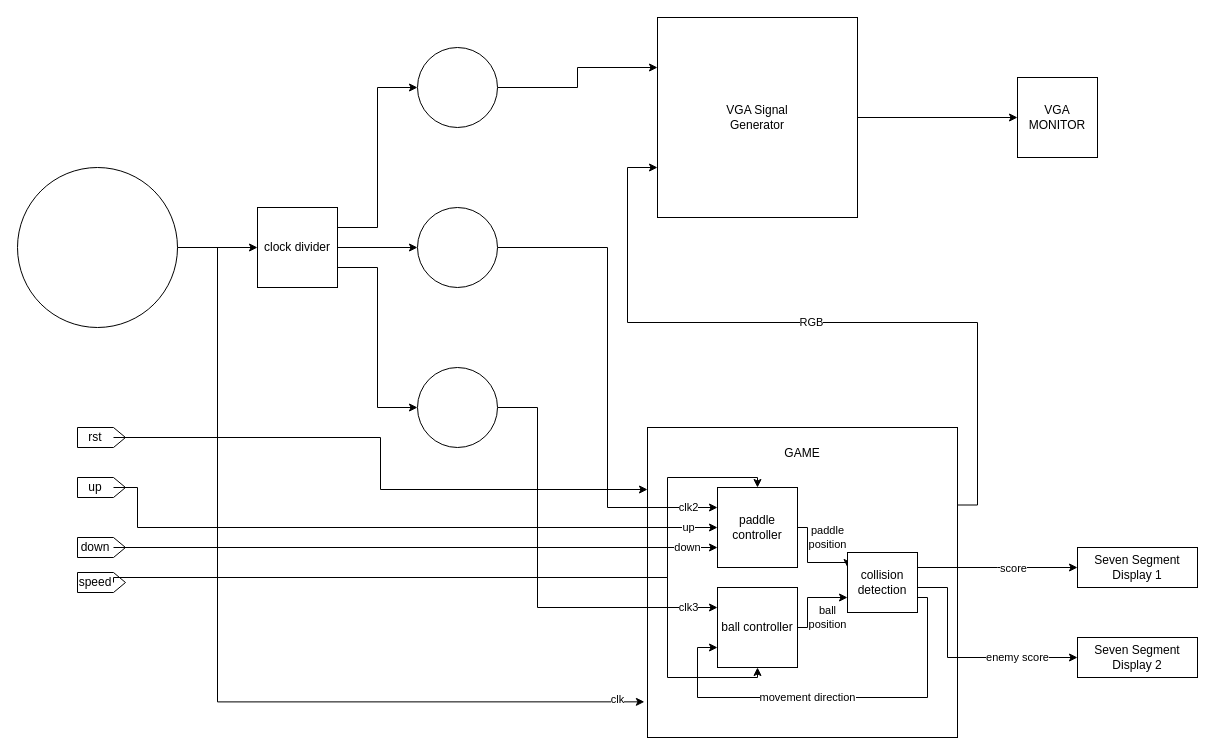
Some shapes in this 1215 by 755 pixel diagram are drawn without their labels. Here are the shapes that lost their labels. From the top down, the centre of each, then its label:
At point 457,87: "25MHz pixel clock".
At point 97,247: "50 MHz".
At point 457,247: "200 Hz paddle clock".
At point 457,407: "40Hz ball clock".
